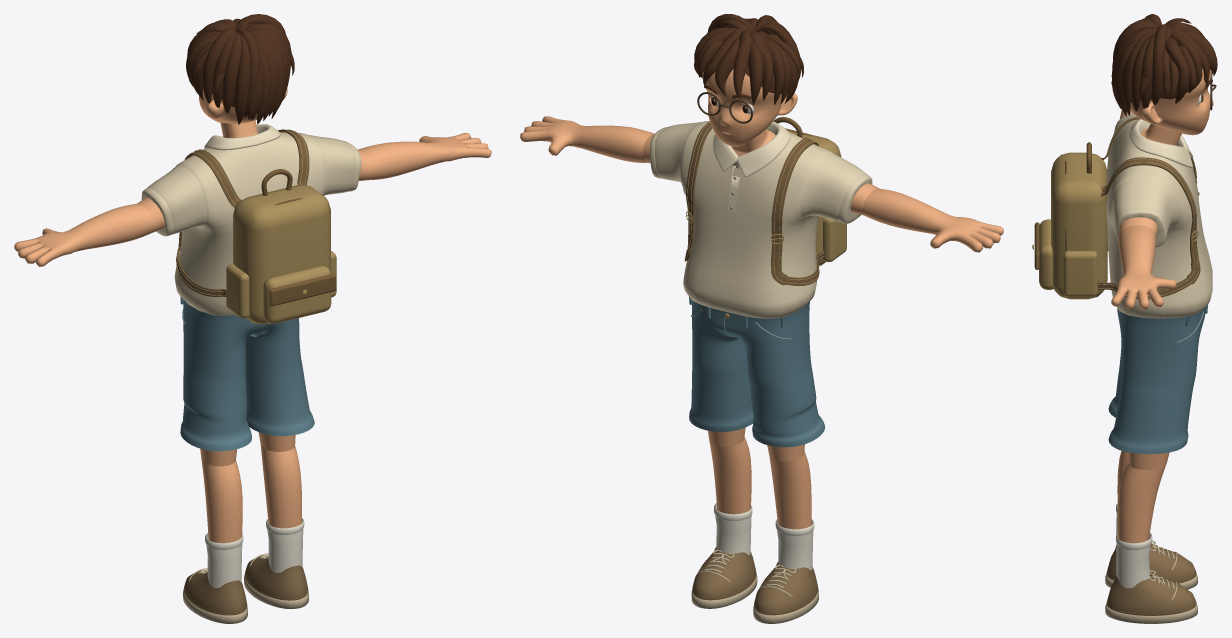
File: deki.glb
The picture shows the model from 3 angles, left to right: view 1: azimuth 30°, elevation 25°; view 2: azimuth 150°, elevation 25°; view 3: azimuth 270°, elevation 25°; orthographic projection.
Parts seen in each view (by area): view 1: deki; view 2: deki; view 3: deki.
Part boxes in pixels (x1,y1,x2,y2): deki: [14, 14, 491, 623]; deki: [520, 14, 1003, 623]; deki: [1032, 14, 1217, 623].
Size of the model in its own units: 1.85 by 2.23 by 0.6388.
